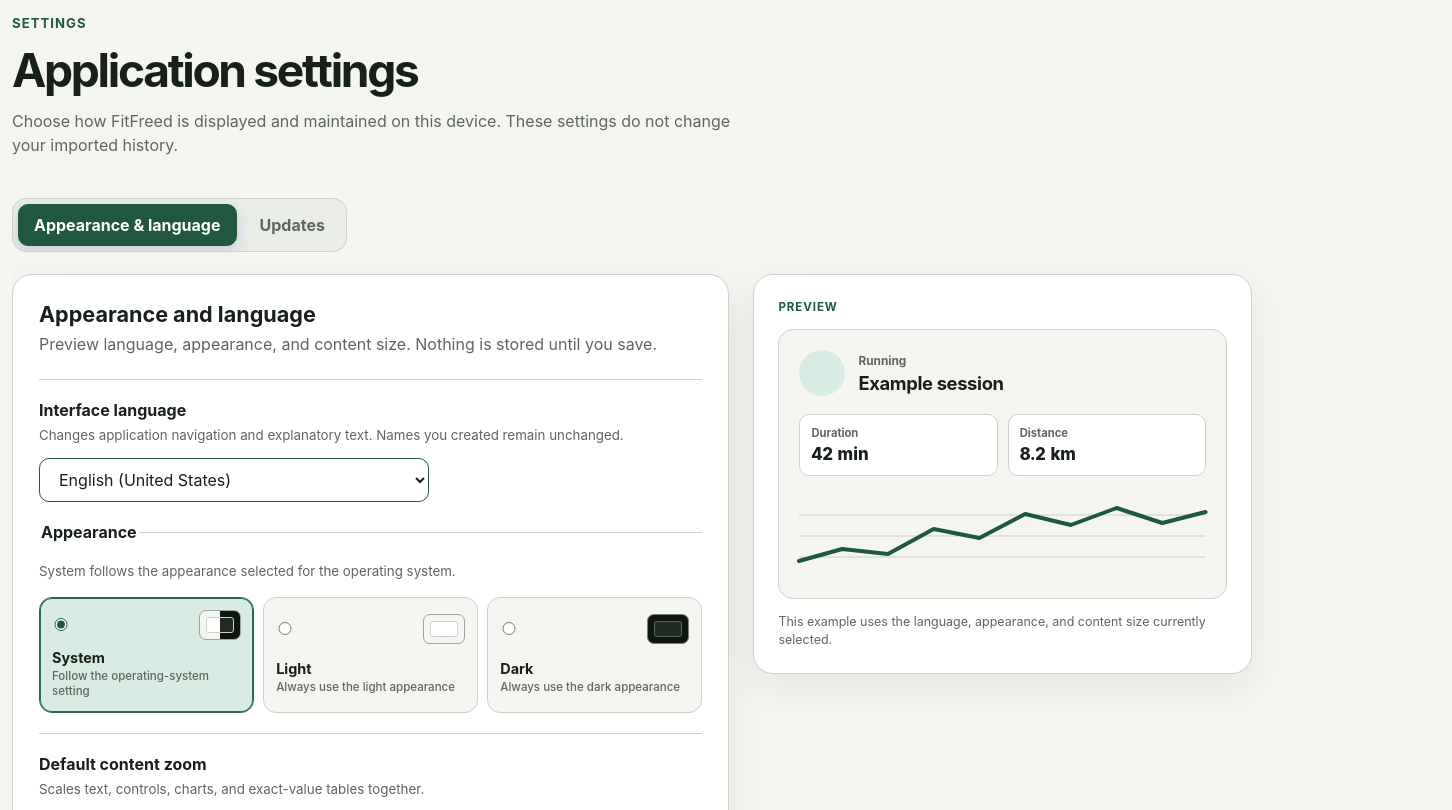
Scenario: SettingsPanel › uses a concrete interface example and lets the complete draft be cancelled
Check: the heading "Example session" is shown, box [858,372,1004,394]
Check: the text "Running" is shown, box [858,354,906,368]
Click the radio button labelled "Dark" at coordinates (509, 628), box [500,622,518,635]
(page scrolled)
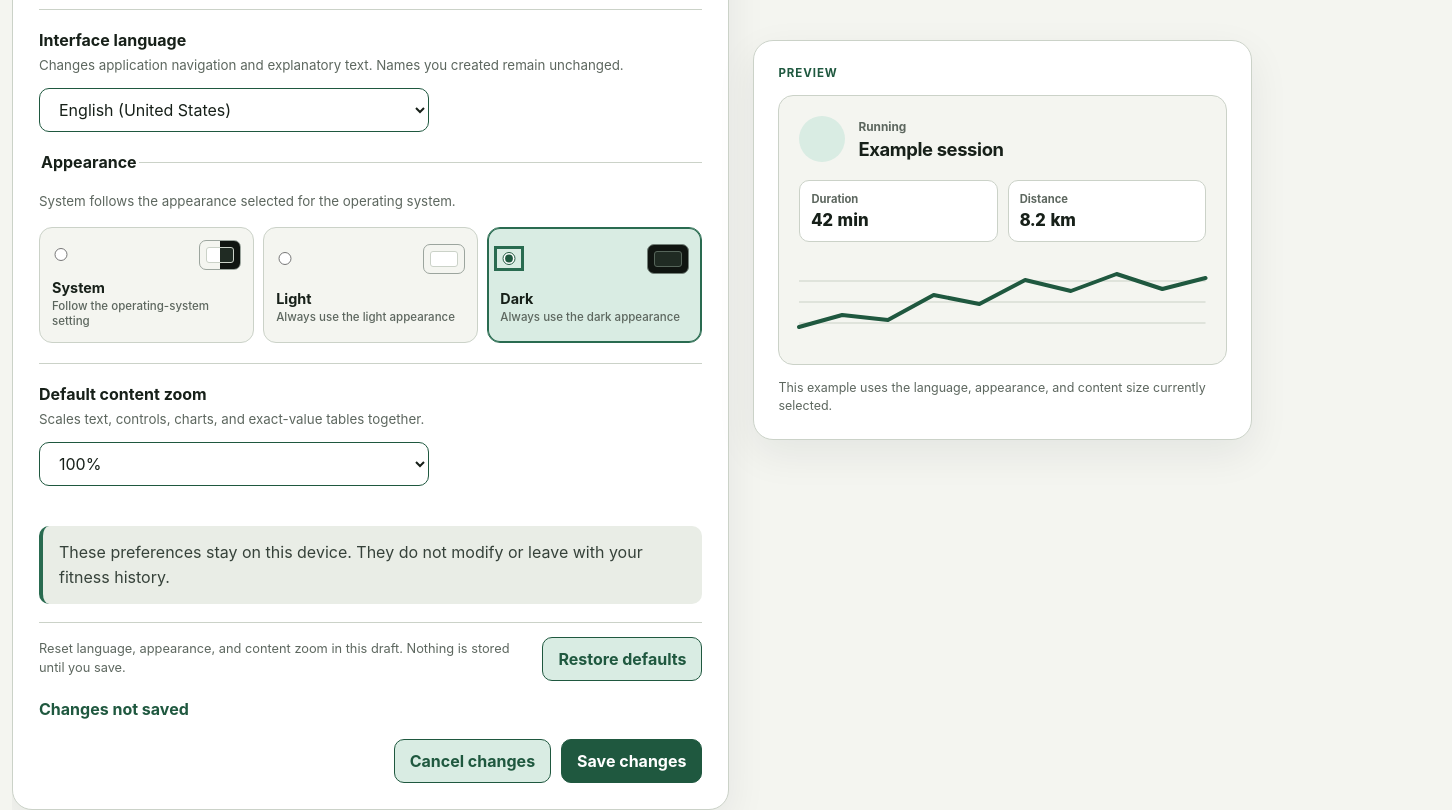
Select "175%" in the dropdown labelled "Default content zoom" at coordinates (234, 464), box [39,442,429,486]
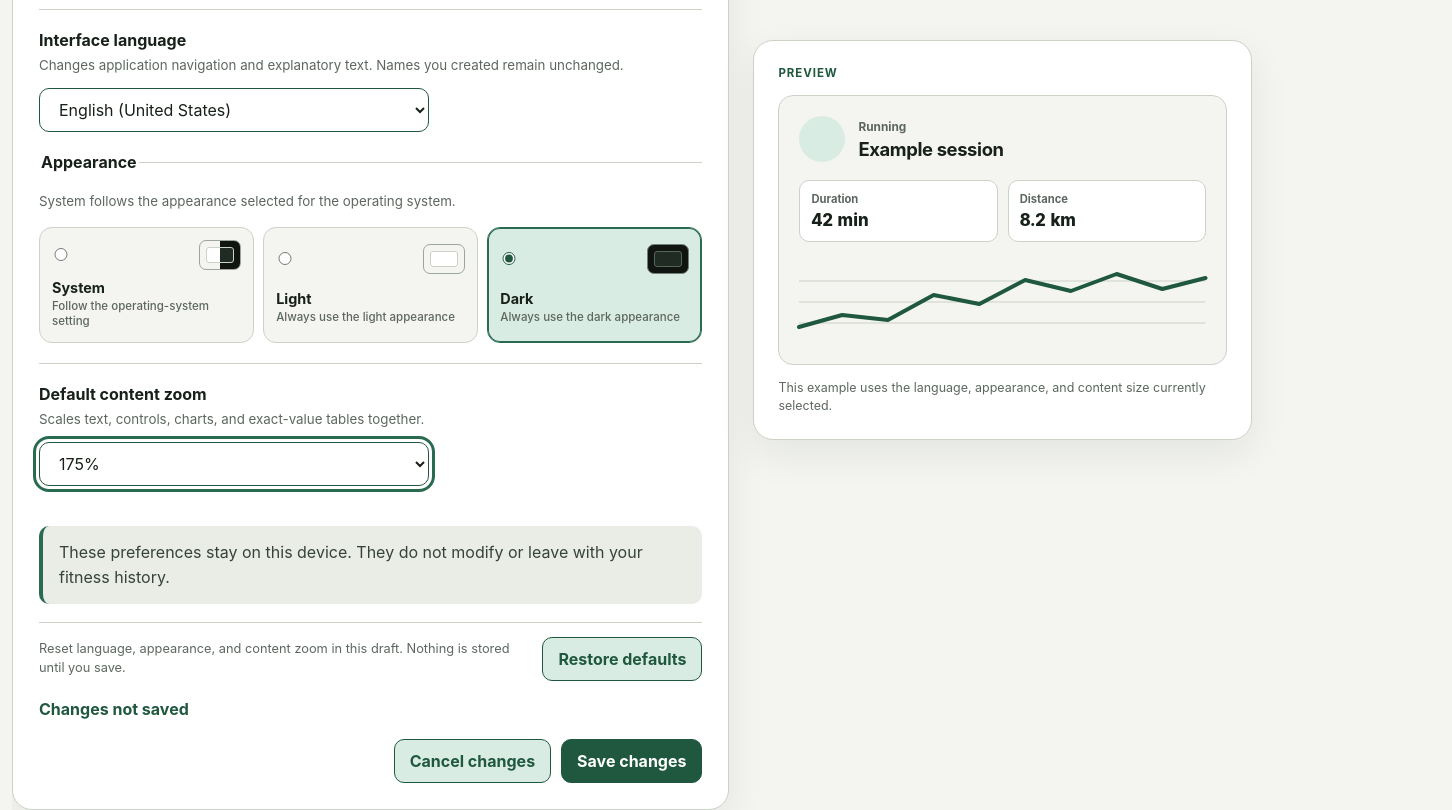
Click the button "Cancel changes" at coordinates (472, 761), box [394,739,551,783]
(page scrolled)
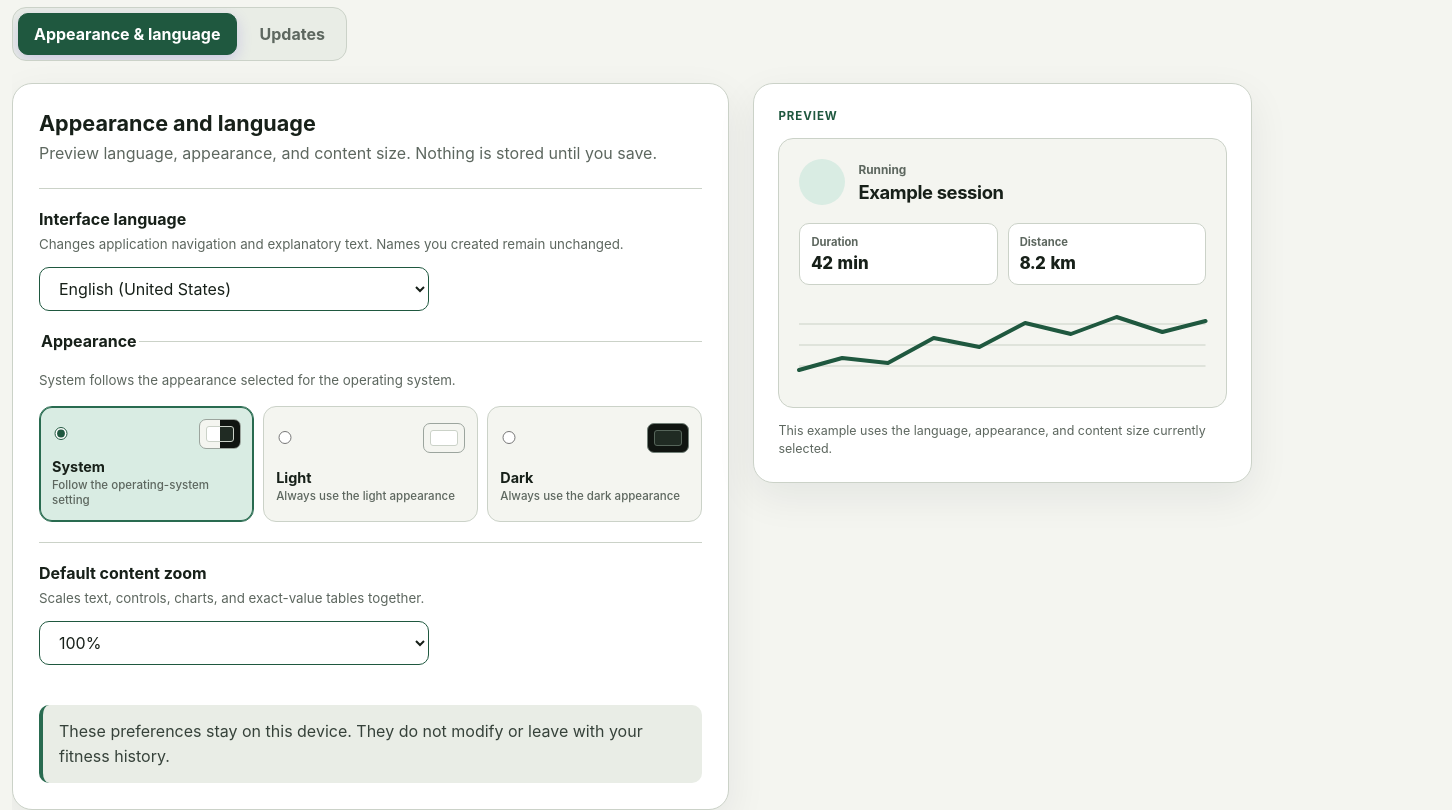
Check: the radio button labelled "System" is checked, box [52,427,70,440]
Check: the text "Changes not saved" is gone
